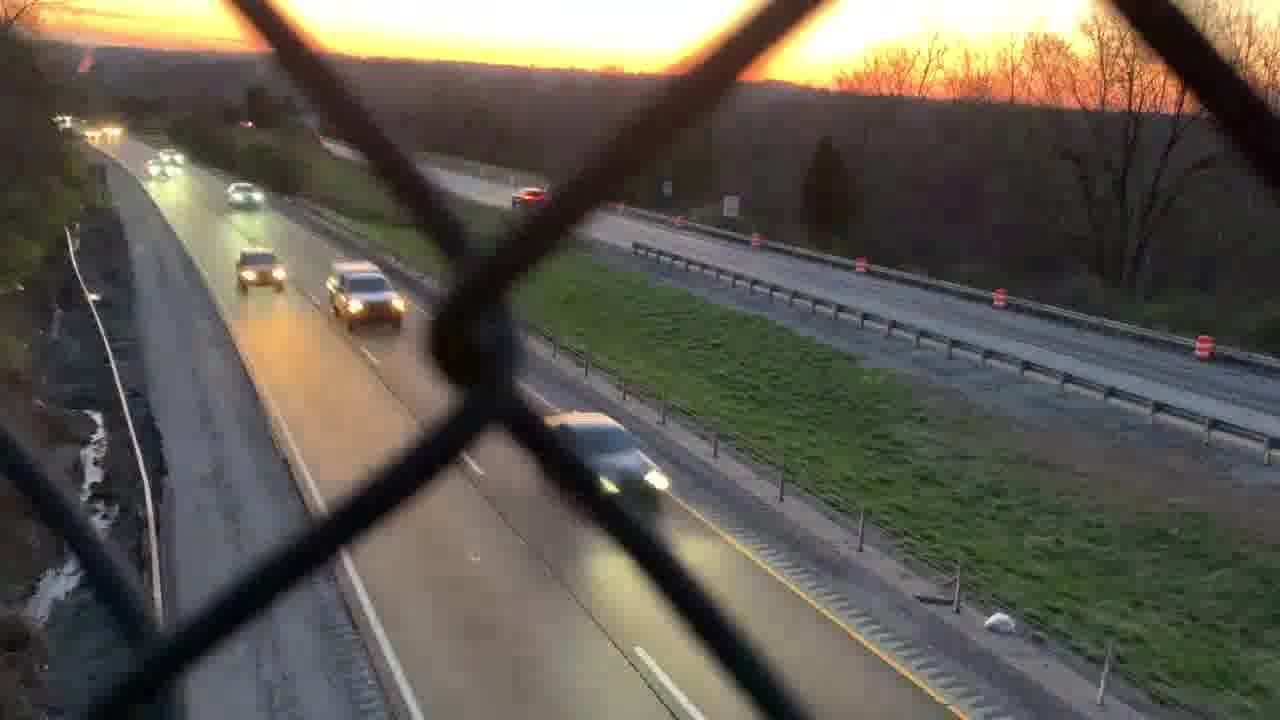smallCar: (537, 402, 676, 515)
